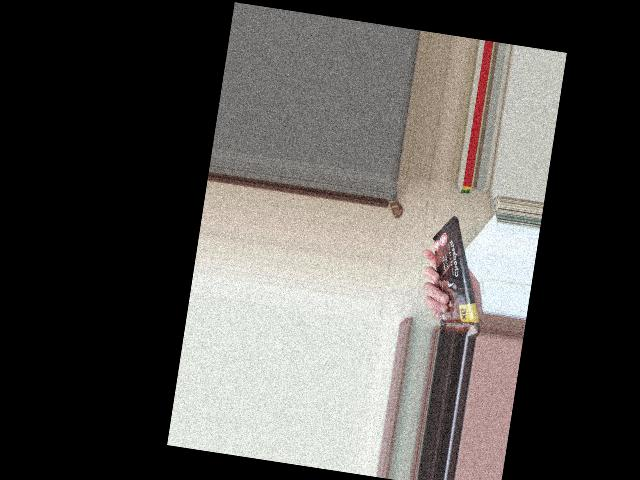chocolate: (420, 216, 488, 337)
